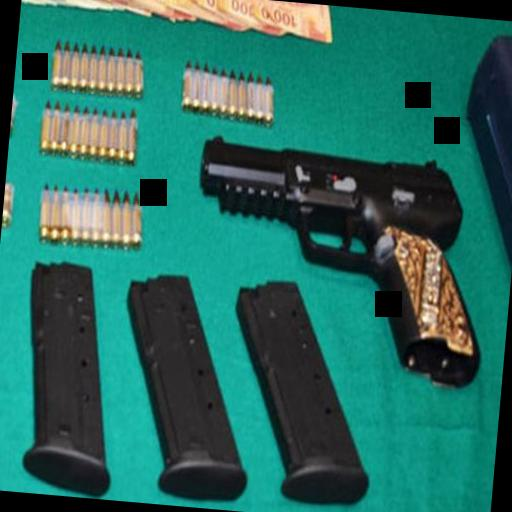Handgun: (179, 114, 498, 390)
